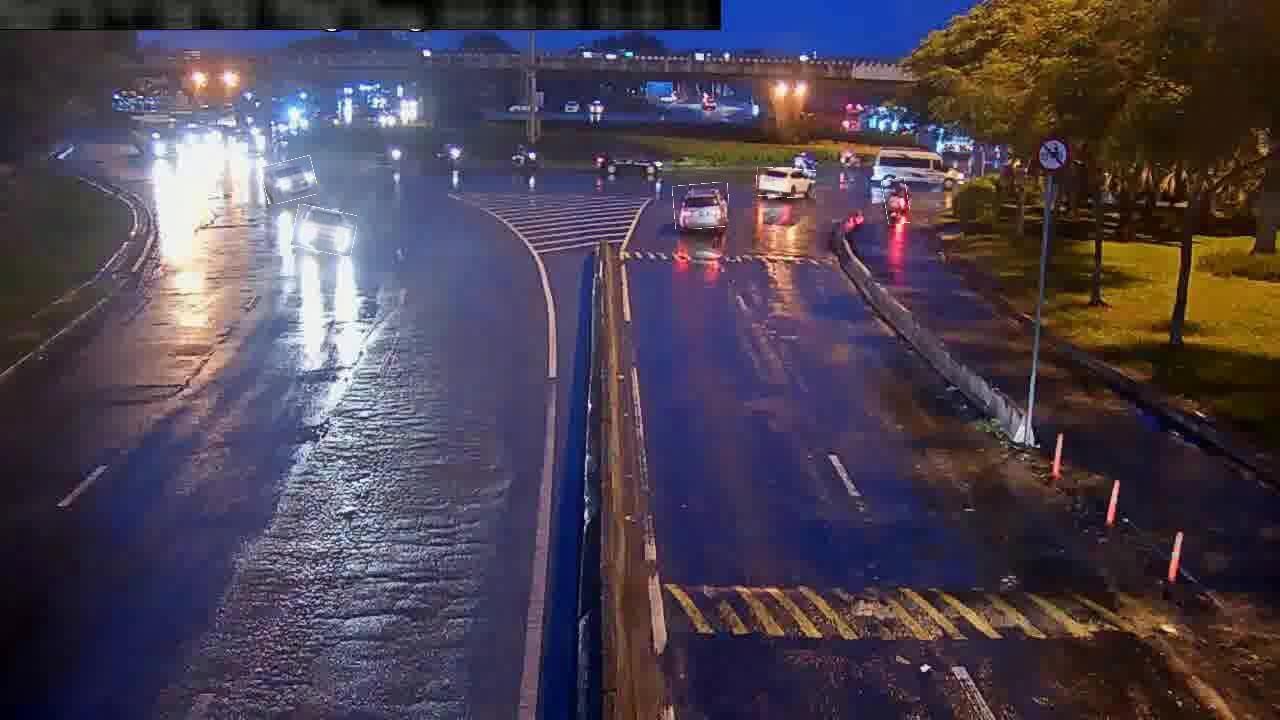container: (292, 207, 357, 255), (673, 183, 730, 229), (262, 158, 317, 203), (757, 168, 817, 198)
motorbike: (883, 178, 910, 225)
